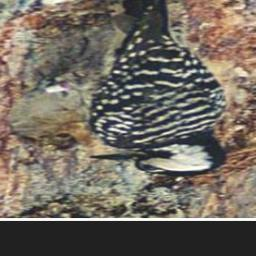Woodpecker: (17, 0, 240, 184)
